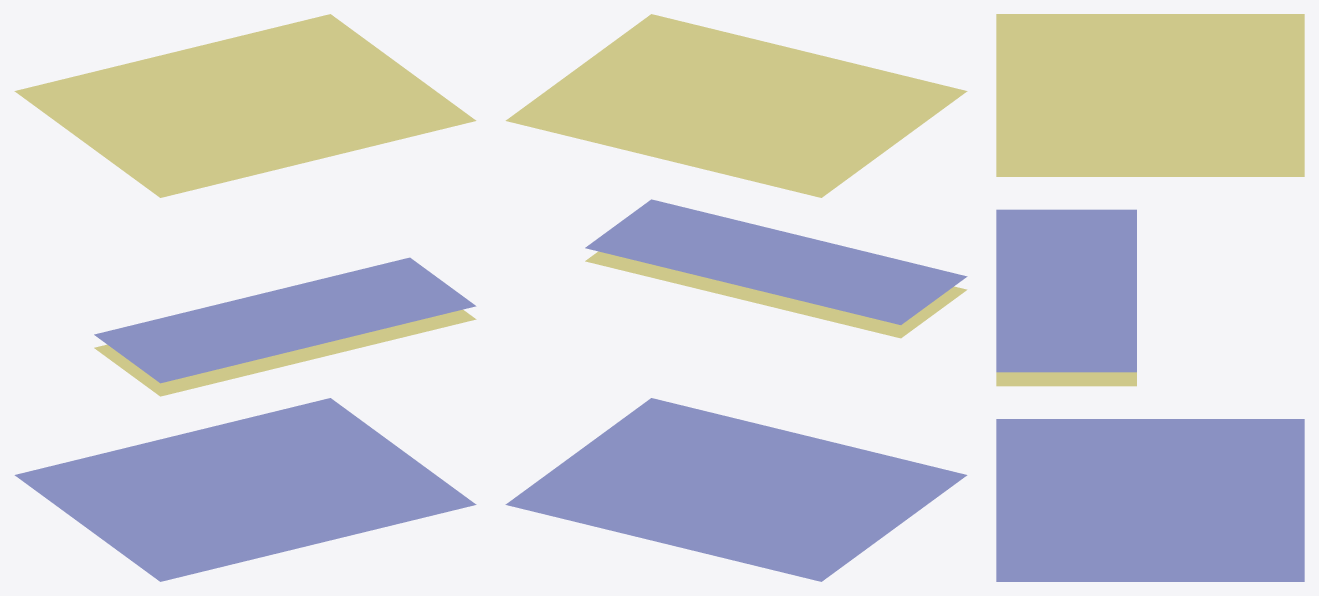
Rendered from Floor_stairs_5x_4x.FBX.
3 views of the same model, side by side, from view 1: azimuth 30°, elevation 25°; view 2: azimuth 150°, elevation 25°; view 3: azimuth 270°, elevation 25° (orthographic). The views are drawn at different scales.
Parts seen in each view (by area): view 1: Floor_stairs_5x_4x; view 2: Floor_stairs_5x_4x; view 3: Floor_stairs_5x_4x.
Part boxes in pixels (x1,y1,x2,y2): Floor_stairs_5x_4x: (14, 14, 476, 581); Floor_stairs_5x_4x: (505, 14, 967, 581); Floor_stairs_5x_4x: (996, 14, 1304, 581).
Size of the model in its own units: 500 by 400 by 580.
